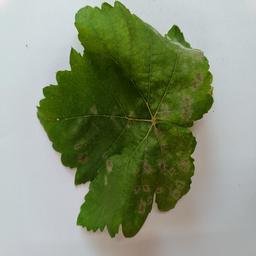Powdery-Mildew: (135, 157, 159, 206), (163, 155, 186, 202), (176, 87, 195, 119), (173, 50, 200, 69), (189, 71, 209, 92), (151, 103, 168, 120), (137, 134, 153, 150), (99, 158, 115, 174)
